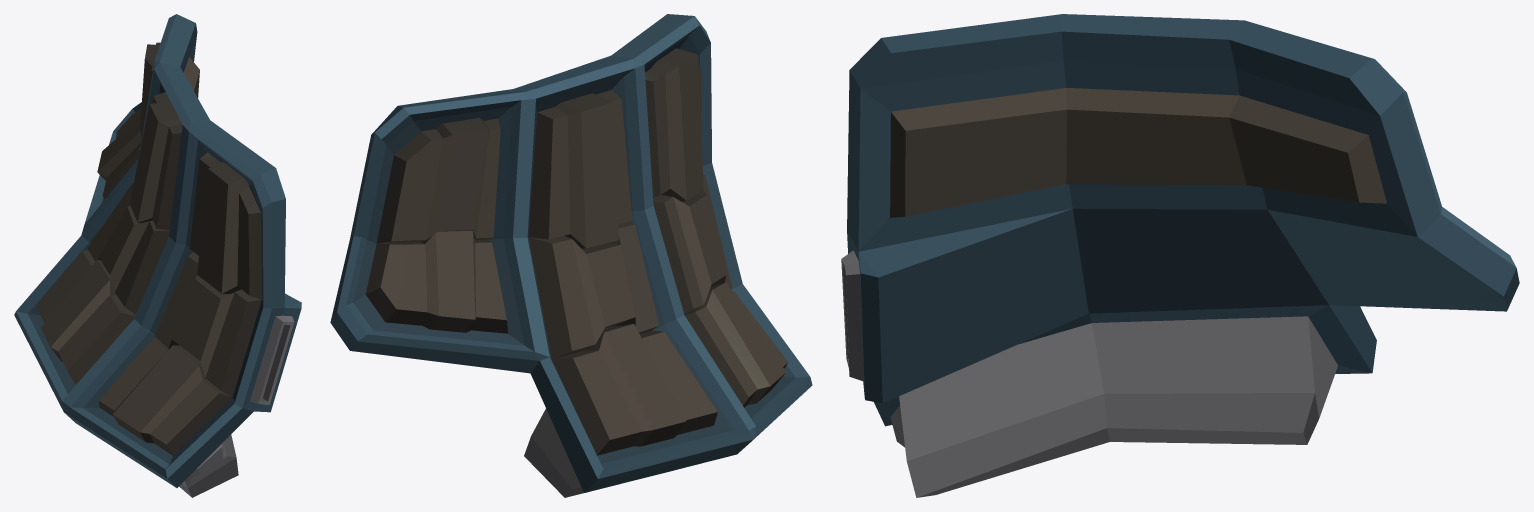
File: SM_Mech_Chest_01_Armor_Collar_02.fbx
3 views of the same model, side by side, from view 1: azimuth 30°, elevation 25°; view 2: azimuth 150°, elevation 25°; view 3: azimuth 270°, elevation 25° (orthographic). The views are drawn at different scales.
Visible parts, largest first — view 1: SM_Mech_Chest_01_Armor_Collar_02; view 2: SM_Mech_Chest_01_Armor_Collar_02; view 3: SM_Mech_Chest_01_Armor_Collar_02.
Boxes of the visible parts, x1,y1,x2,y2 form: SM_Mech_Chest_01_Armor_Collar_02: (14, 14, 301, 497); SM_Mech_Chest_01_Armor_Collar_02: (330, 14, 812, 497); SM_Mech_Chest_01_Armor_Collar_02: (841, 14, 1519, 497).
Size of the model in its own units: 60.34 by 88.01 by 102.
